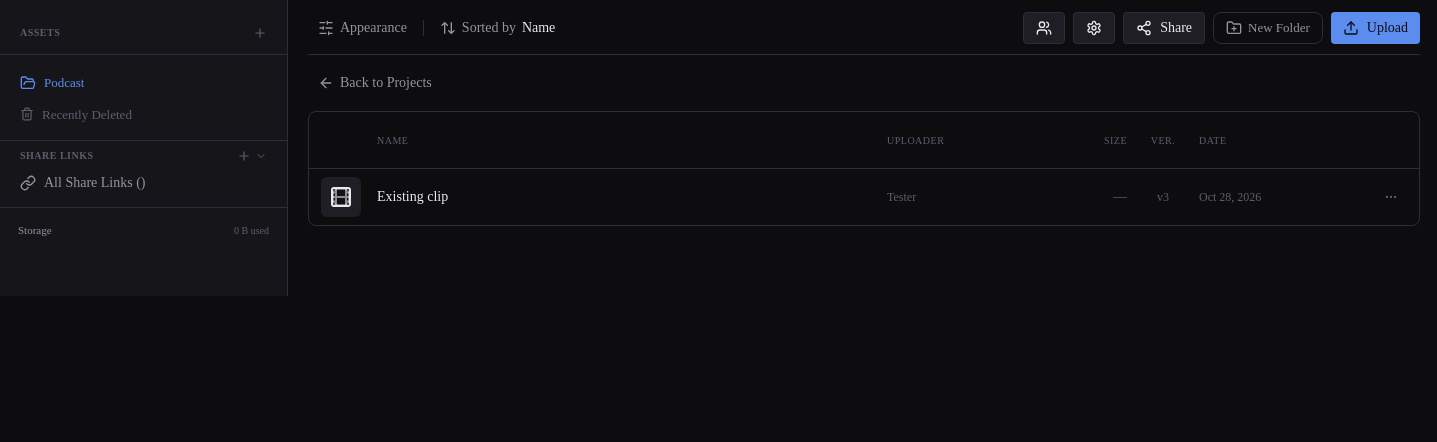
Test case: §232 — Share and Download are in the list row ··· menu › an owner gets every entry the panel had, plus the ones it never had
Click the button without text next to "Oct 28, 2026": (1391, 197) [1379, 185, 1403, 209]
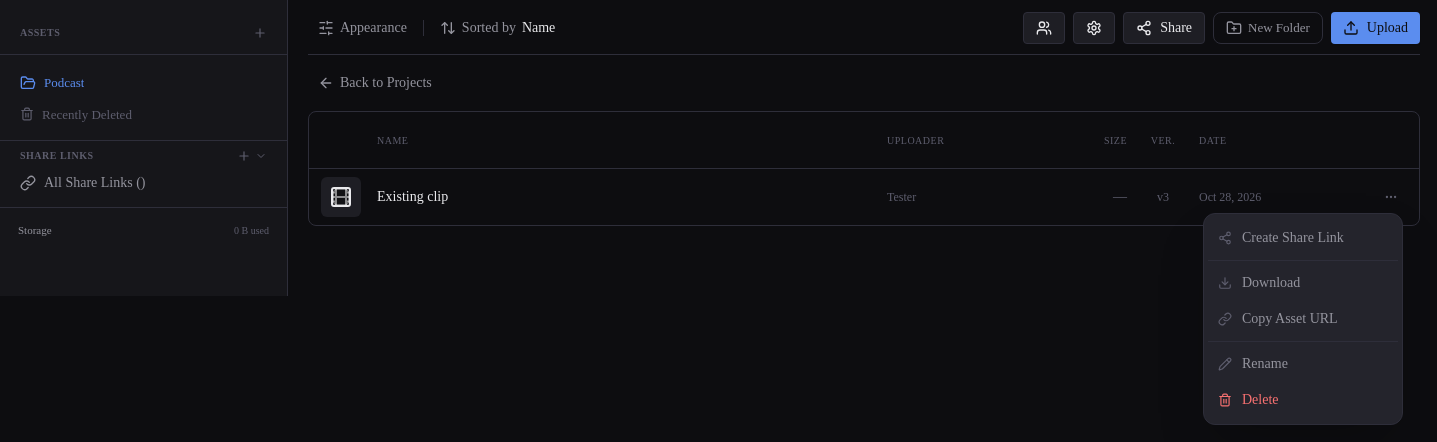
Now the menu item "Create Share Link" is shown, box [1218, 230, 1344, 245]
Now the menu item "Download" is shown, box [1218, 275, 1300, 290]
Now the menu item "Copy Asset URL" is shown, box [1218, 311, 1338, 326]
